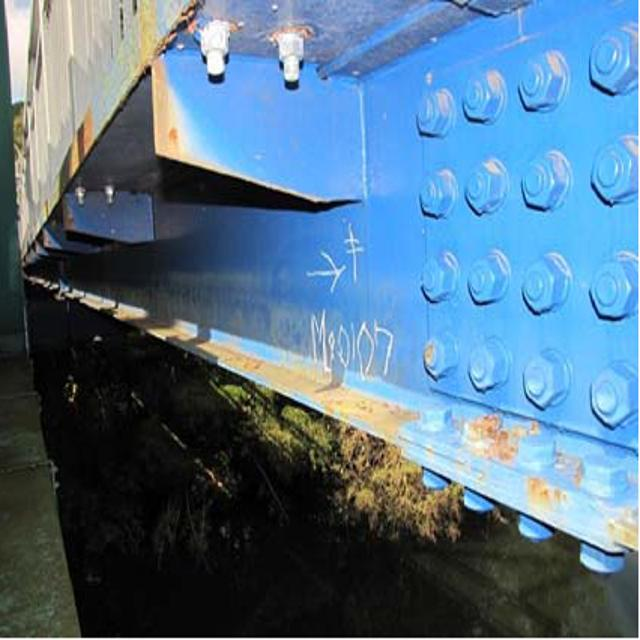corrosion: (151, 317, 410, 436), (464, 407, 624, 530)
